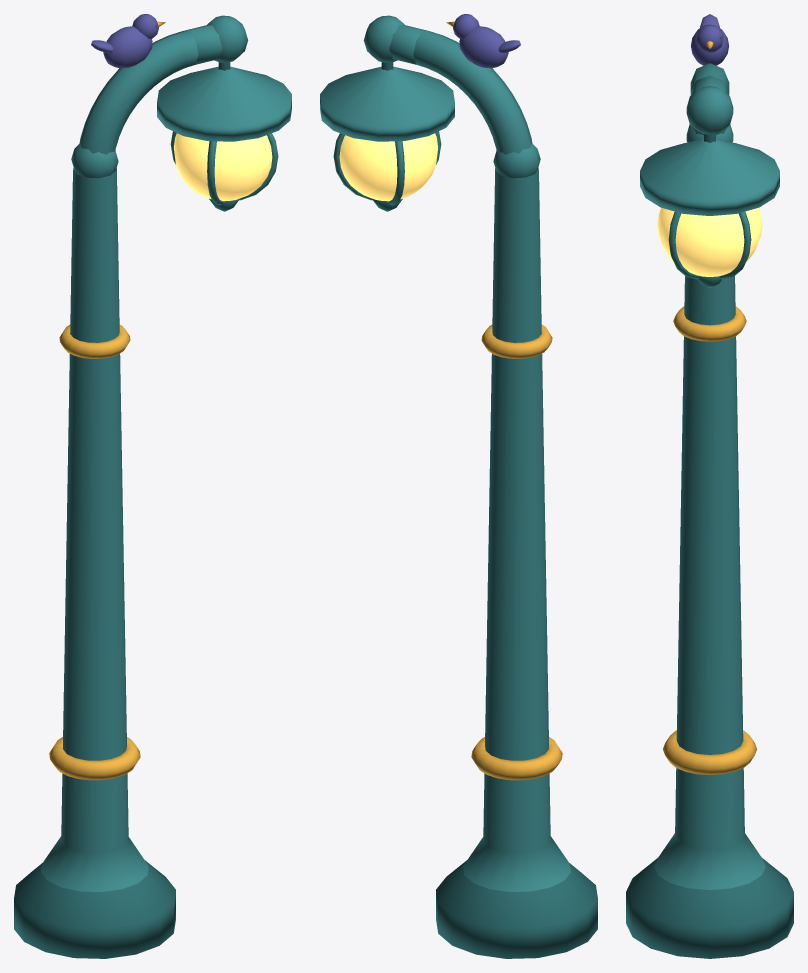
The model's file is lamp.glb.
The picture shows the model from 3 angles, left to right: view 1: azimuth 30°, elevation 25°; view 2: azimuth 150°, elevation 25°; view 3: azimuth 270°, elevation 25°; orthographic projection. The views are drawn at different scales.
Parts seen in each view (by area): view 1: lamp; view 2: lamp; view 3: lamp.
Boxes of the visible parts, bbox=[...] form: lamp: bbox=[14, 14, 291, 958]; lamp: bbox=[320, 14, 597, 958]; lamp: bbox=[626, 14, 793, 958].
Size of the model in its own units: 0.88 by 2.91 by 0.48.
1 material, 1 textured.
